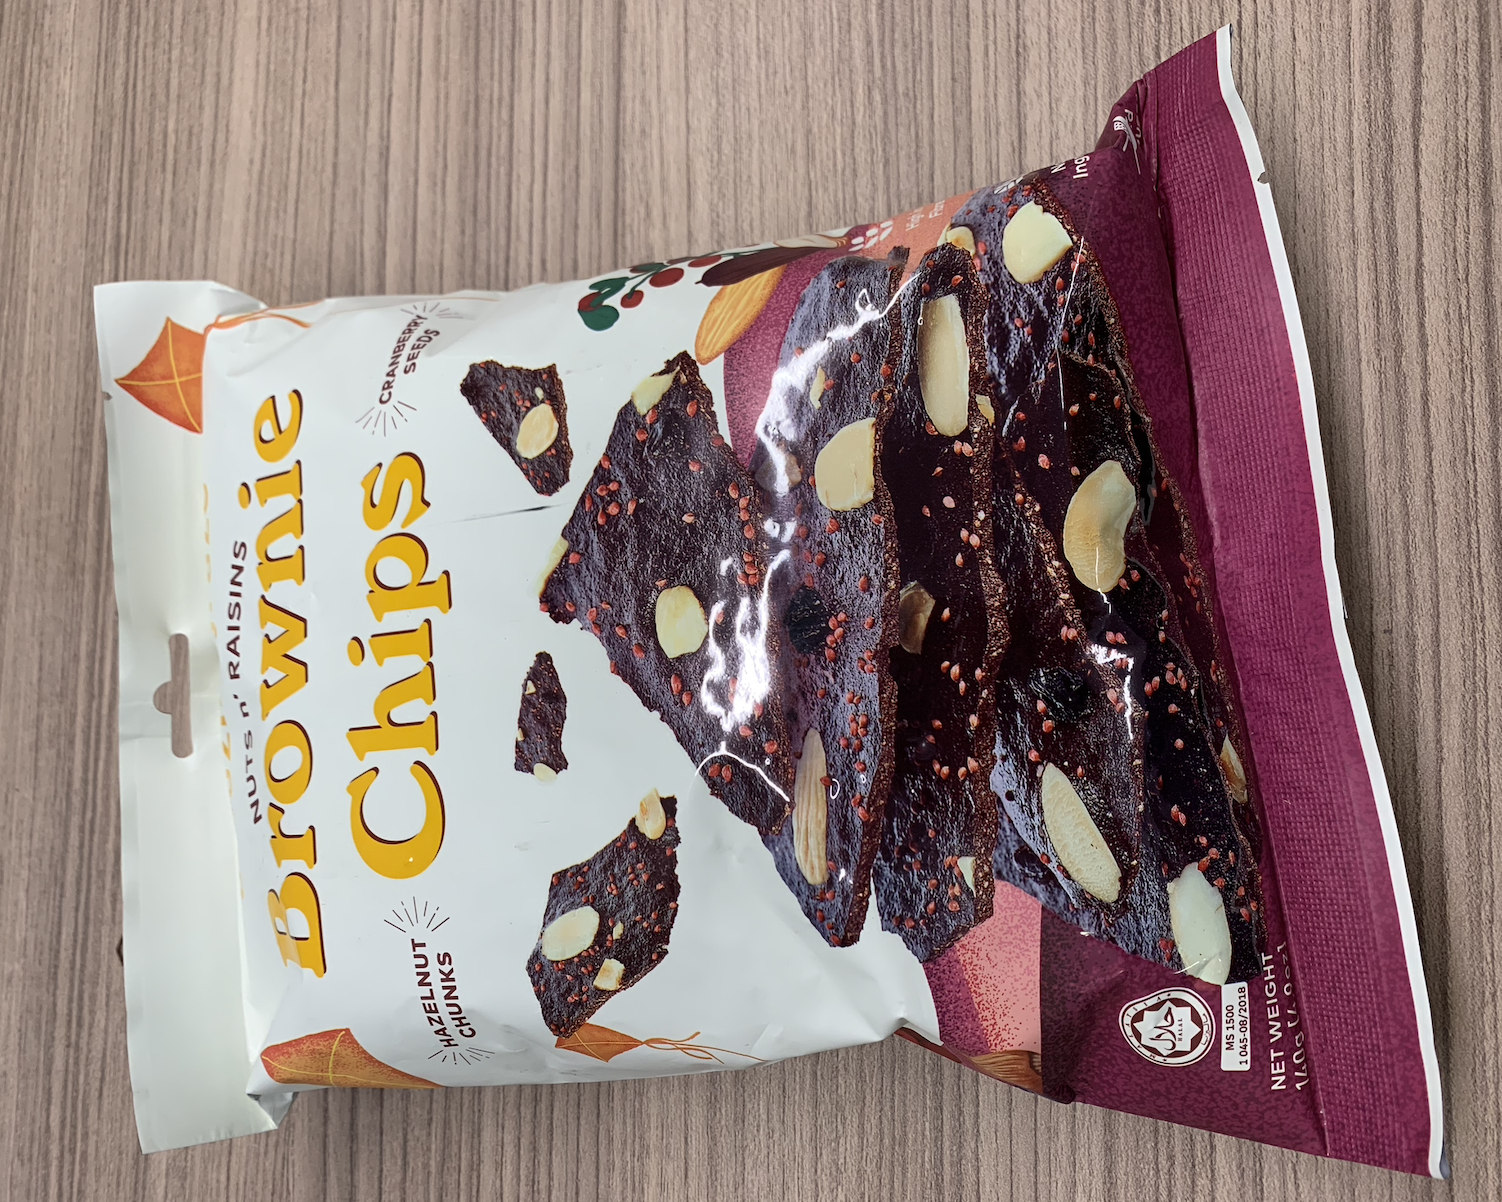crackers_150g: (143, 339, 1349, 1114)
